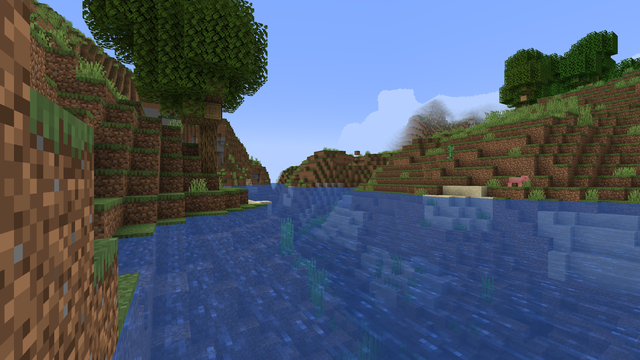cochons: (507, 176, 523, 186)
creepers: (447, 144, 454, 155)
squelettes: (468, 116, 475, 128)
